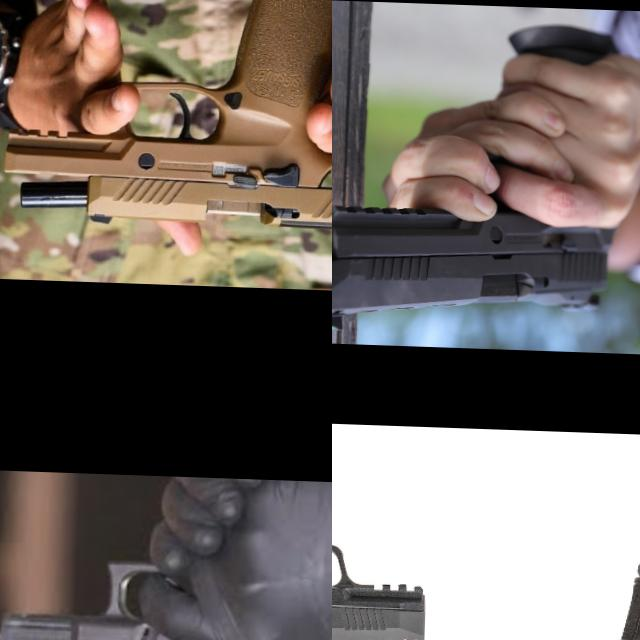handgun: (0, 0, 332, 245), (332, 196, 615, 342), (0, 542, 332, 640), (332, 426, 473, 640), (435, 550, 640, 640)
